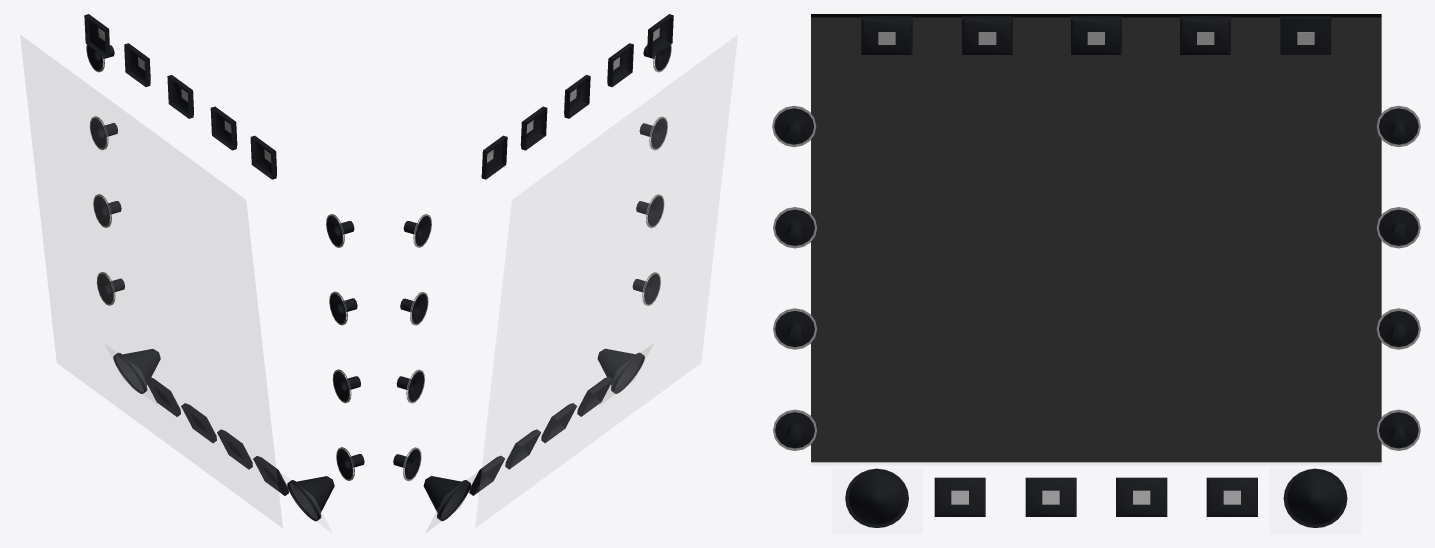
File: right_mfd.fbx
The picture shows the model from 3 angles, left to right: view 1: azimuth 30°, elevation 25°; view 2: azimuth 150°, elevation 25°; view 3: azimuth 270°, elevation 25°; orthographic projection. The views are drawn at different scales.
Visible parts, largest first — view 1: right_mfd.vitre, right_mfd.bl-knob, right_mfd.br-knob, right_mfd.bt-h1, right_mfd.bt-h2, right_mfd.bt-h3, right_mfd.bt-h4, right_mfd.bt-h5, right_mfd.bt-b2, right_mfd.bt-b3, right_mfd.bt-b1, right_mfd.bt-b4 (+7 smaller); view 2: right_mfd.vitre, right_mfd.br-knob, right_mfd.bl-knob, right_mfd.bt-h4, right_mfd.bt-h1, right_mfd.bt-h2, right_mfd.bt-h3, right_mfd.bt-h5, right_mfd.bt-b2, right_mfd.bt-b3, right_mfd.bt-b1, right_mfd.bt-b4 (+7 smaller); view 3: right_mfd.black_screen, right_mfd.vitre, right_mfd.light, right_mfd.bl-knob, right_mfd.br-knob, right_mfd.bt-b2, right_mfd.bt-b1, right_mfd.bt-b3, right_mfd.bt-b4, right_mfd.bt-h1, right_mfd.bt-h5, right_mfd.bt-h2 (+14 smaller).
Part boxes in pixels (<box>): right_mfd.vitre: <box>20,35,282,527</box>; right_mfd.bl-knob: <box>287,476,334,521</box>; right_mfd.br-knob: <box>113,349,160,393</box>; right_mfd.bt-h1: <box>250,135,276,179</box>; right_mfd.bt-h2: <box>210,106,237,150</box>; right_mfd.bt-h3: <box>167,75,193,118</box>; right_mfd.bt-h4: <box>124,43,150,86</box>; right_mfd.bt-h5: <box>84,14,110,57</box>; right_mfd.bt-b2: <box>217,429,252,469</box>; right_mfd.bt-b3: <box>181,403,216,443</box>; right_mfd.bt-b1: <box>253,456,288,495</box>; right_mfd.bt-b4: <box>145,377,180,416</box>; right_mfd.vitre: <box>476,35,737,526</box>; right_mfd.br-knob: <box>423,476,470,521</box>; right_mfd.bl-knob: <box>597,348,644,393</box>; right_mfd.bt-h4: <box>520,106,547,150</box>; right_mfd.bt-h1: <box>647,14,673,57</box>; right_mfd.bt-h2: <box>607,43,633,87</box>; right_mfd.bt-h3: <box>564,75,590,118</box>; right_mfd.bt-h5: <box>481,135,507,179</box>; right_mfd.bt-b2: <box>541,403,576,443</box>; right_mfd.bt-b3: <box>505,429,540,469</box>; right_mfd.bt-b1: <box>577,376,612,416</box>; right_mfd.bt-b4: <box>469,455,505,495</box>; right_mfd.black_screen: <box>811,14,1381,462</box>; right_mfd.vitre: <box>811,18,1380,464</box>; right_mfd.light: <box>772,33,1420,504</box>; right_mfd.bl-knob: <box>845,468,908,527</box>; right_mfd.br-knob: <box>1283,468,1347,527</box>; right_mfd.bt-b2: <box>1025,477,1076,516</box>; right_mfd.bt-b1: <box>934,477,985,516</box>; right_mfd.bt-b3: <box>1116,477,1167,516</box>; right_mfd.bt-b4: <box>1206,477,1257,516</box>; right_mfd.bt-h1: <box>861,16,912,54</box>; right_mfd.bt-h5: <box>1280,16,1331,54</box>; right_mfd.bt-h2: <box>962,16,1012,54</box>.
Size of the model in its own units: 5 by 17.9 by 14.82.
